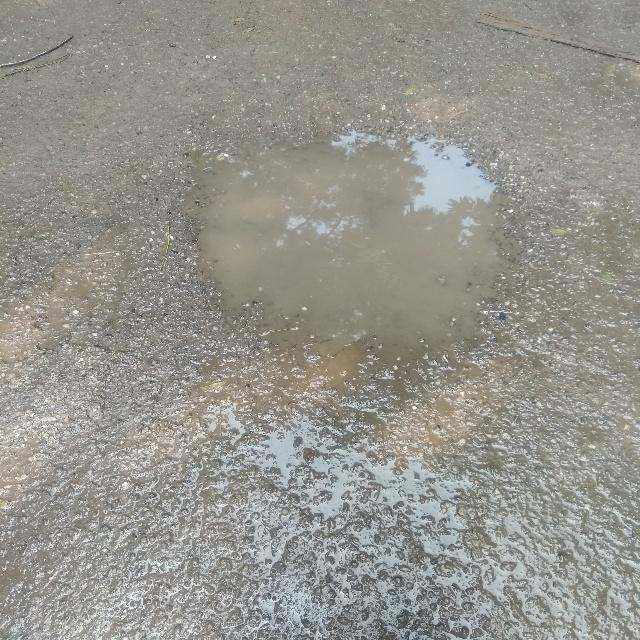Surface Erosion: (66, 55, 636, 538)
